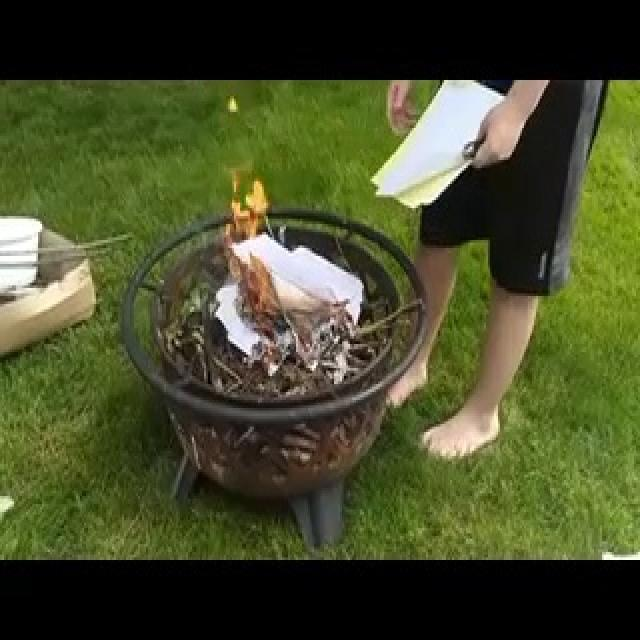Fire: (208, 136, 282, 338)
